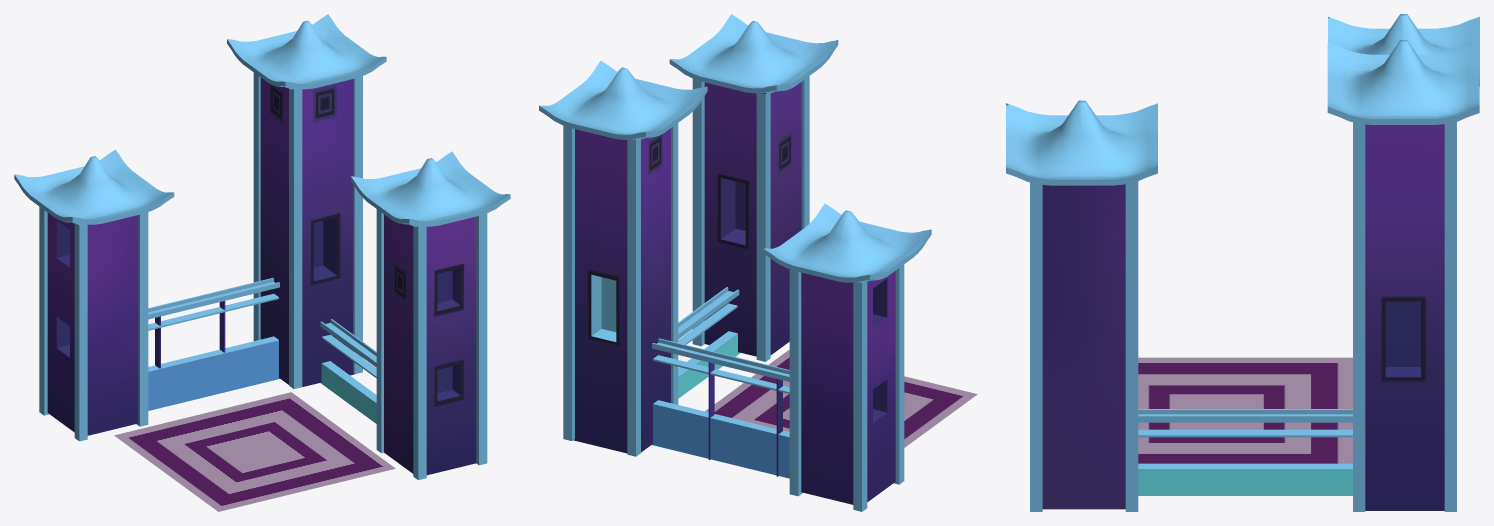
The model's file is V2_Tower2.FBX.
3 renders of one model, left to right at view 1: azimuth 30°, elevation 25°; view 2: azimuth 150°, elevation 25°; view 3: azimuth 270°, elevation 25°, orthographic. The views are drawn at different scales.
Visible parts, largest first — view 1: Box100; view 2: Box100; view 3: Box100.
Part boxes in pixels (left/top/right/bottom): Box100: left=14, top=14, right=510, bottom=511; Box100: left=539, top=14, right=977, bottom=511; Box100: left=1006, top=14, right=1479, bottom=511.
Bounding box in the file's own units: 825 × 875 × 831.
Materials: 1 (1 with a texture image).
